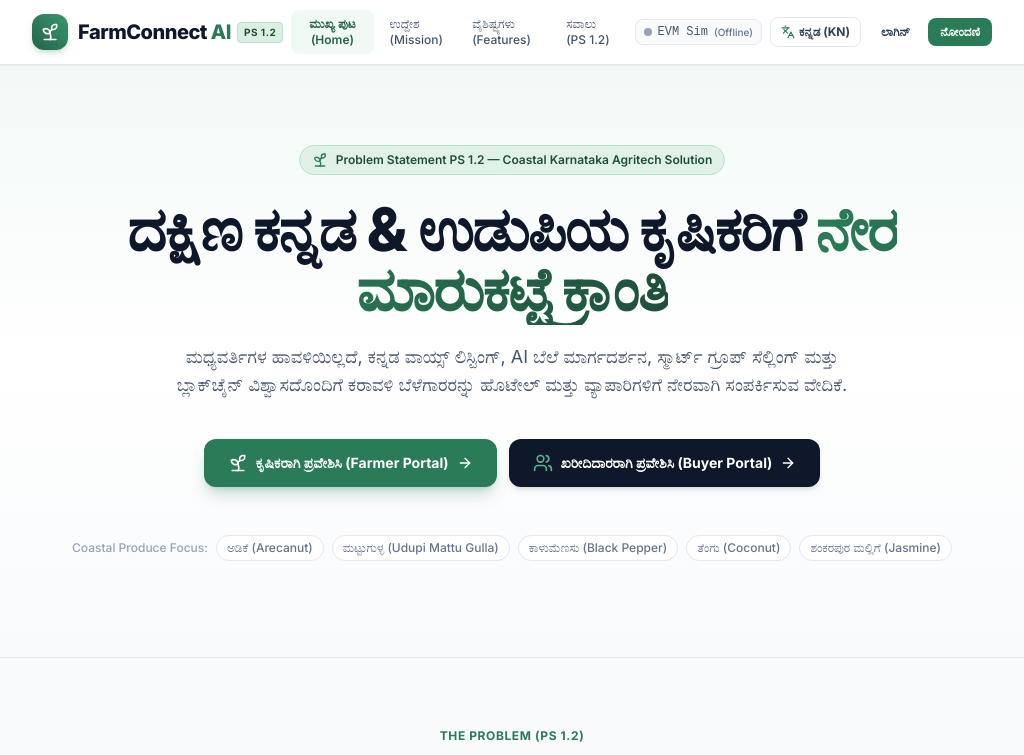
it: FarmConnect AI Frontend Test Suite › toggles language between English and Kannada on navbar
Click the button titled "Toggle Kannada / English".
click(816, 32)  # box [770,17,861,47]
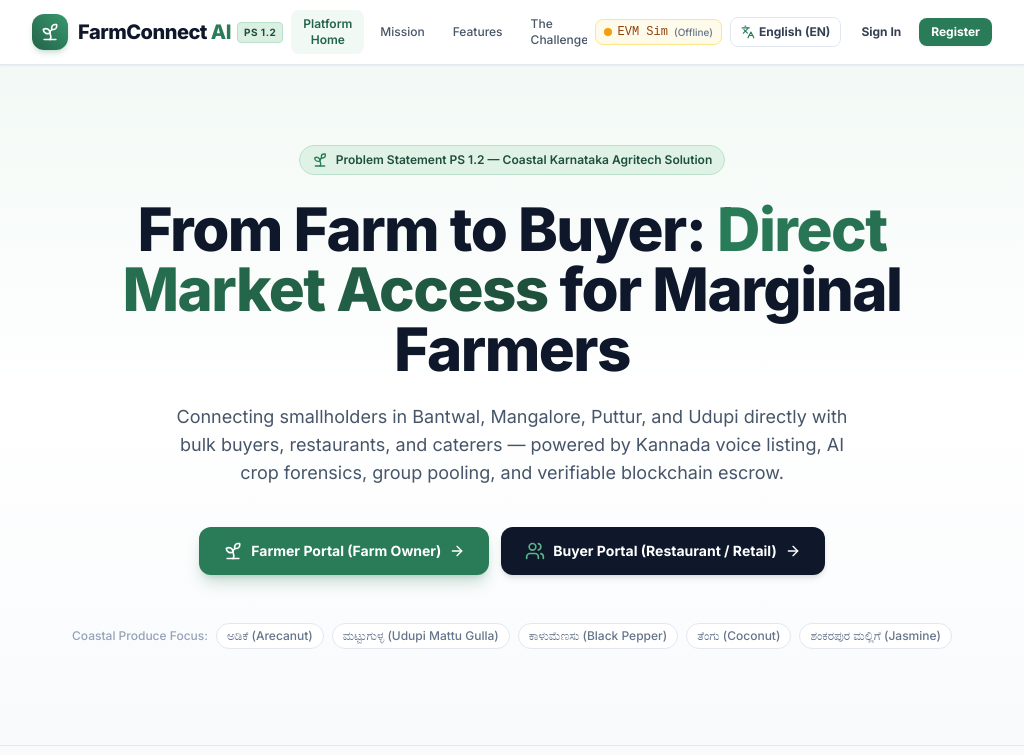
Expected: the text "English (EN)" is shown, [759,24,830,40]
